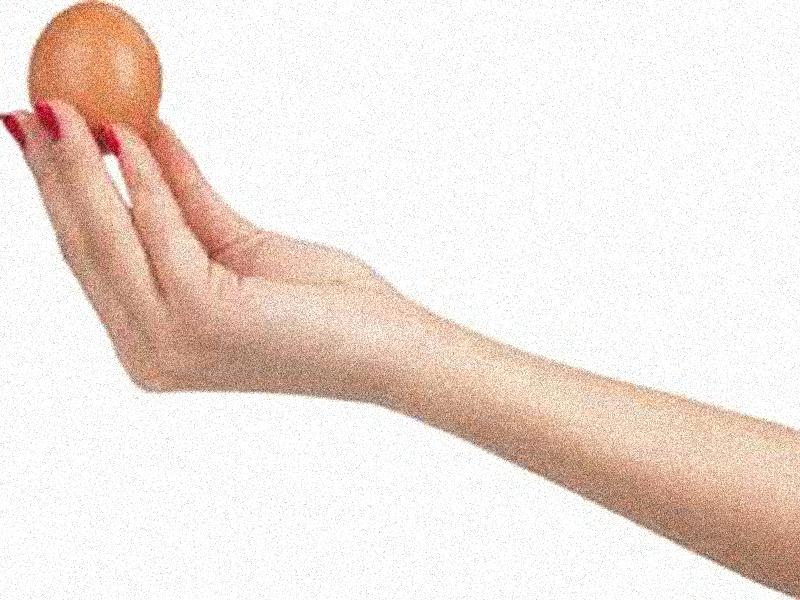Eggs: (26, 3, 162, 150)
